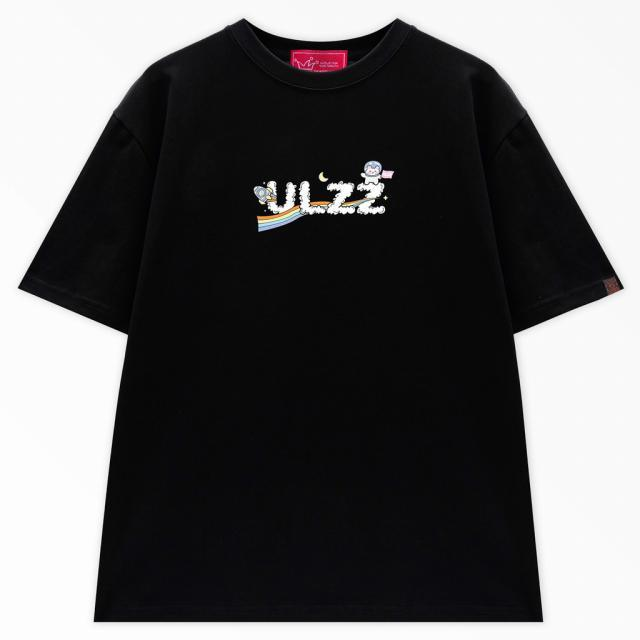Shirt: (17, 16, 628, 624)
